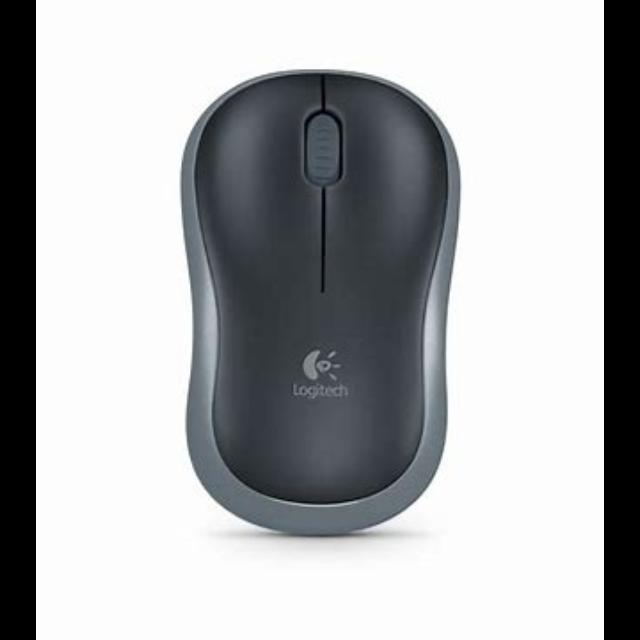Computer-Mouse: (178, 69, 463, 539)
